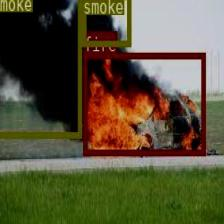fire: (82, 51, 204, 154)
smoke: (0, 0, 81, 138), (82, 0, 130, 46)
